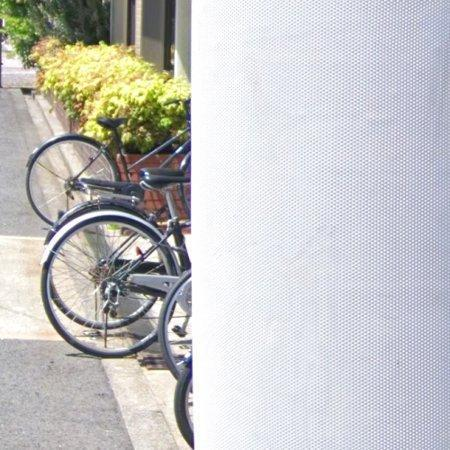bicycles: (42, 169, 191, 358), (26, 118, 190, 225)
